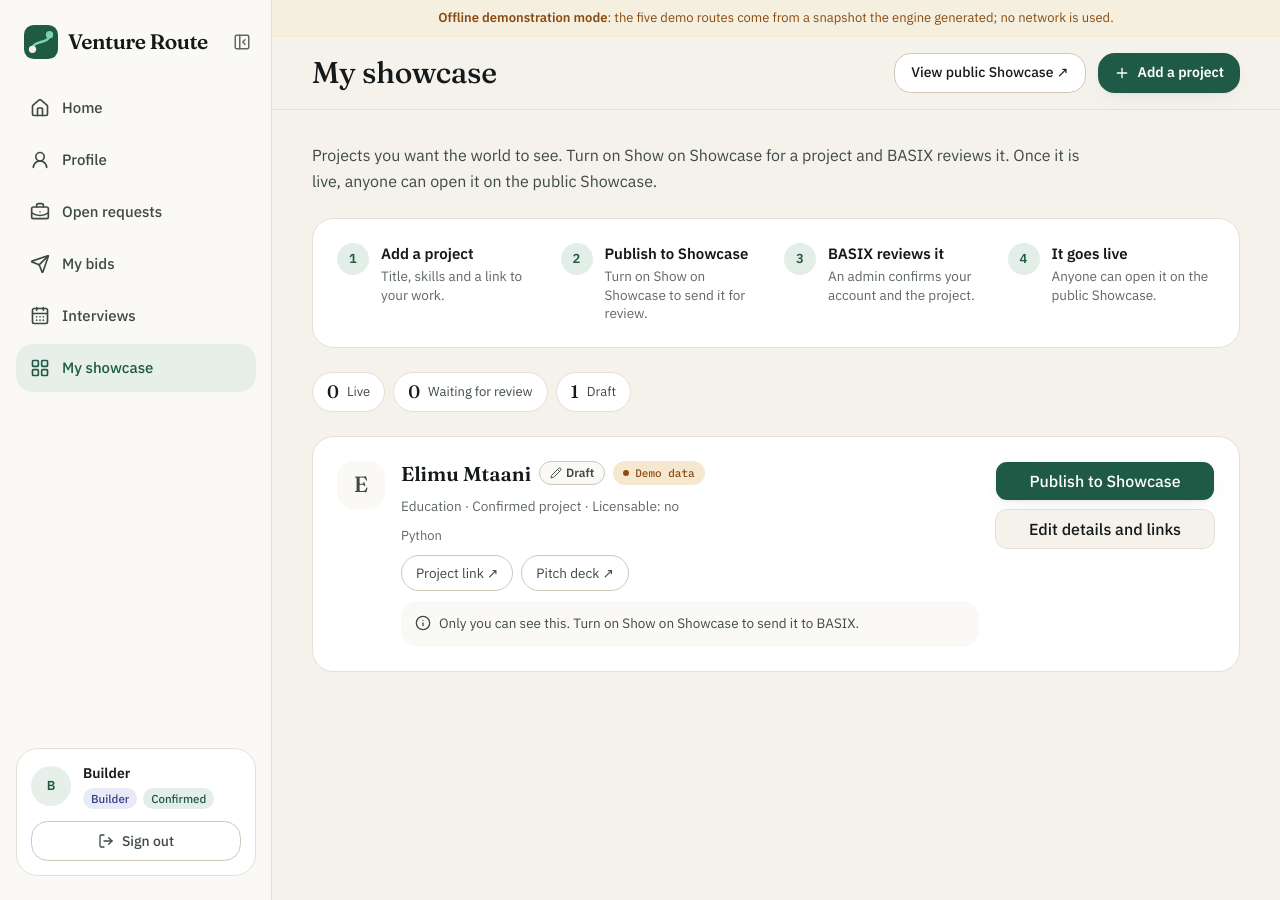
Scenario: /my-showcase › publishes with showcased true and keeps the saved links and description
Click the button "Publish to Showcase". click: (1105, 481)
box: [995, 461, 1215, 501]
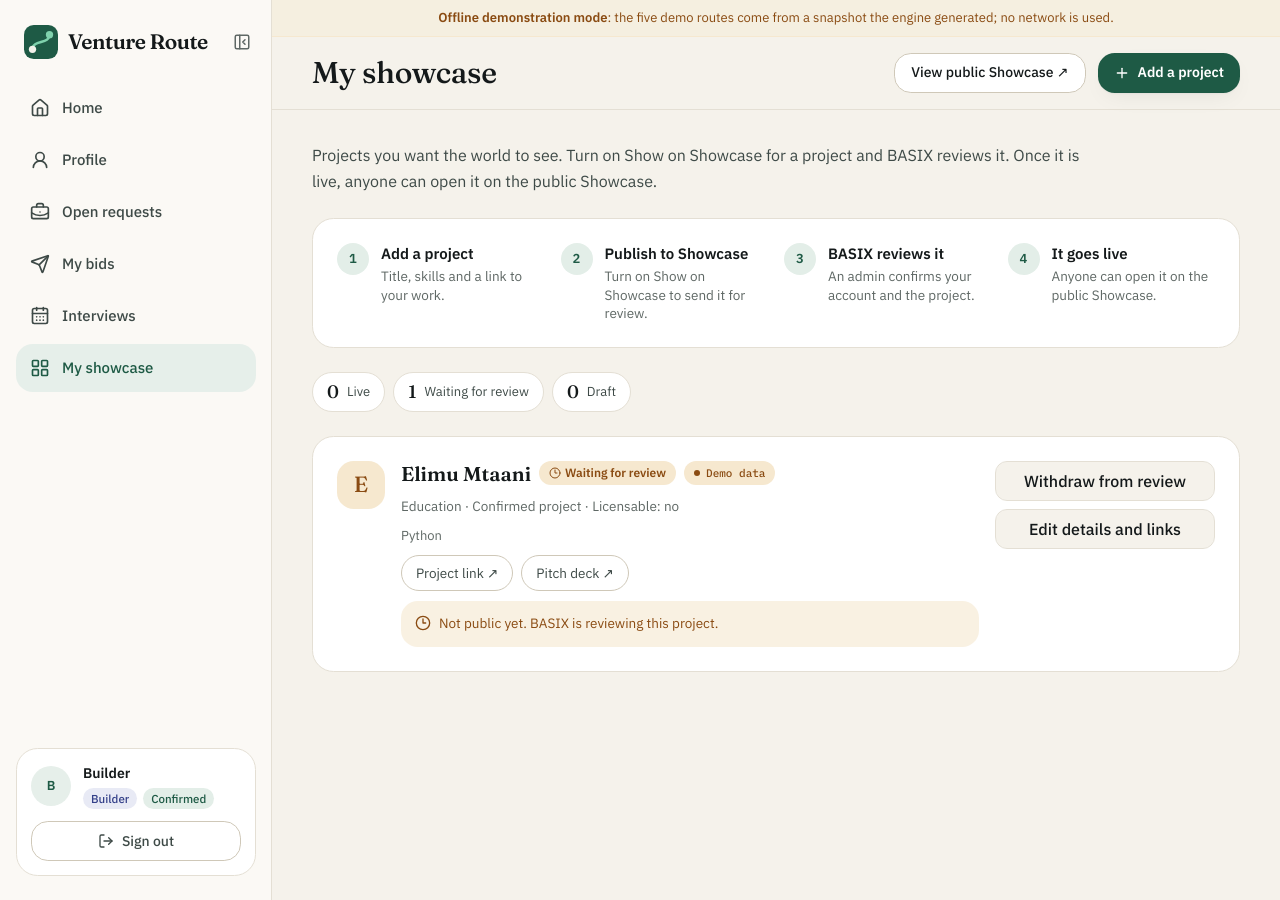
expect the text "Waiting for review" is shown: met, box [539, 461, 676, 485]
expect the button "Withdraw from review" is shown: met, box [995, 461, 1215, 501]
